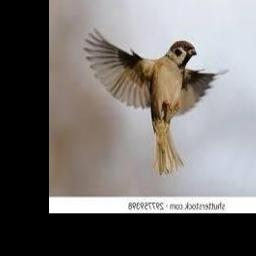Sparrow: (84, 27, 229, 175)
